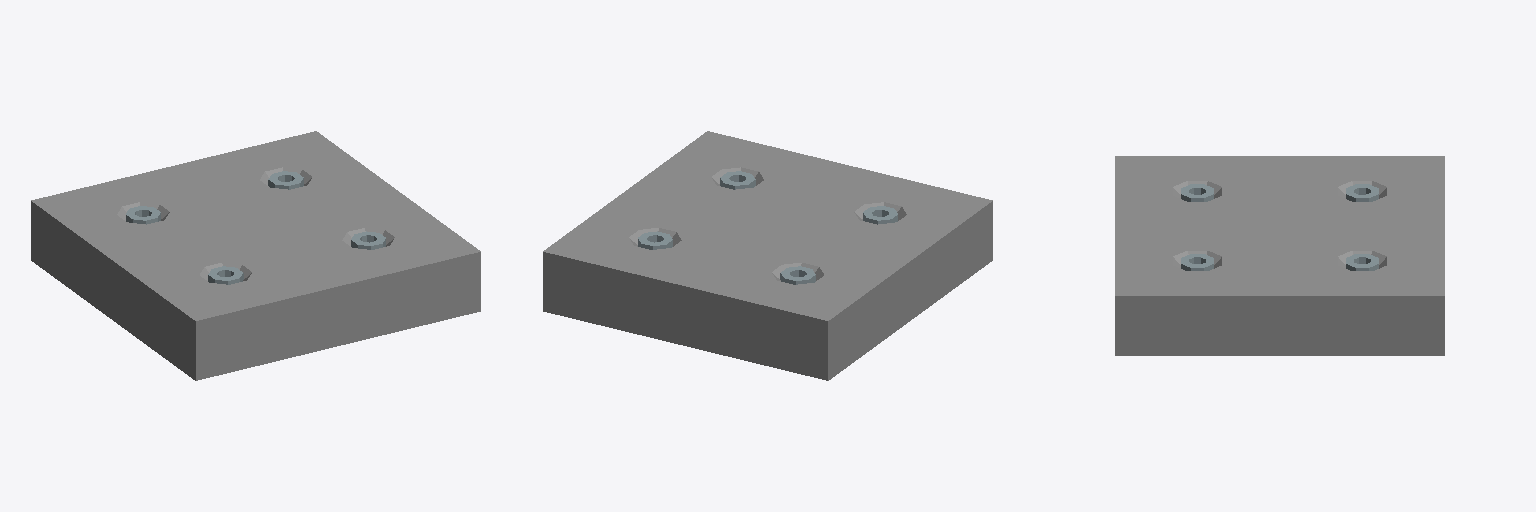
The model's file is trap_floor_pipes.obj.
The picture shows the model from 3 angles: view 1: azimuth 30°, elevation 25°; view 2: azimuth 150°, elevation 25°; view 3: azimuth 270°, elevation 25°; orthographic projection.
Parts seen in each view (by area): view 1: object5, object1, object3, object4, object2; view 2: object5, object2, object4, object3, object1; view 3: object5, object3, object4.
Part boxes in pixels (x1,y1,x2,y2): object5: (31,131,480,380); object1: (268,171,303,189); object3: (208,266,243,284); object4: (126,206,160,224); object2: (351,231,385,249); object5: (543,131,992,380); object2: (720,171,755,189); object4: (780,266,815,284); object3: (863,206,897,224); object1: (638,231,672,249); object5: (1115,156,1444,355); object3: (1181,184,1213,201); object4: (1346,184,1378,201).
Bounding box in the file's own units: 1 × 0.2 × 1.